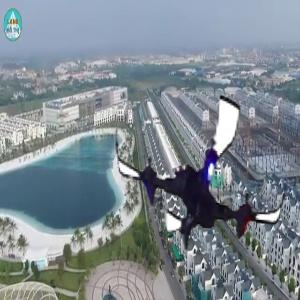drone: (109, 79, 294, 264)
